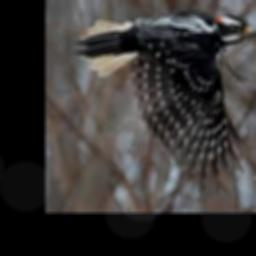Woodpecker: (74, 9, 256, 190)
